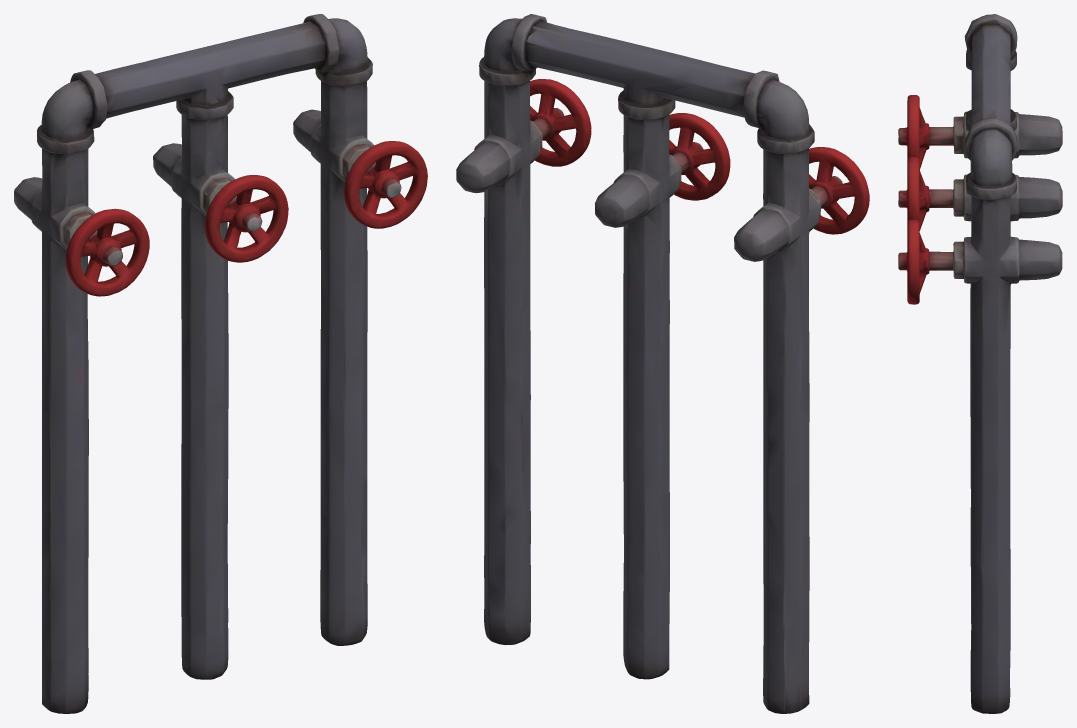
The model's file is decor_pipe_valves_idle.glb.
The picture shows the model from 3 angles, left to right: view 1: azimuth 30°, elevation 25°; view 2: azimuth 150°, elevation 25°; view 3: azimuth 270°, elevation 25°; orthographic projection. The views are drawn at different scales.
Visible parts, largest first — view 1: tripo_node_092dbc8a-c7b1-4e6f-8e45-26e0a5a0589e; view 2: tripo_node_092dbc8a-c7b1-4e6f-8e45-26e0a5a0589e; view 3: tripo_node_092dbc8a-c7b1-4e6f-8e45-26e0a5a0589e.
Part boxes in pixels (bbox=[...]): tripo_node_092dbc8a-c7b1-4e6f-8e45-26e0a5a0589e: bbox=[14, 14, 427, 713]; tripo_node_092dbc8a-c7b1-4e6f-8e45-26e0a5a0589e: bbox=[456, 14, 869, 713]; tripo_node_092dbc8a-c7b1-4e6f-8e45-26e0a5a0589e: bbox=[898, 14, 1062, 713].
Bounding box in the file's own units: 0.8969 × 1.5 × 0.387.
1 material, 1 textured.
